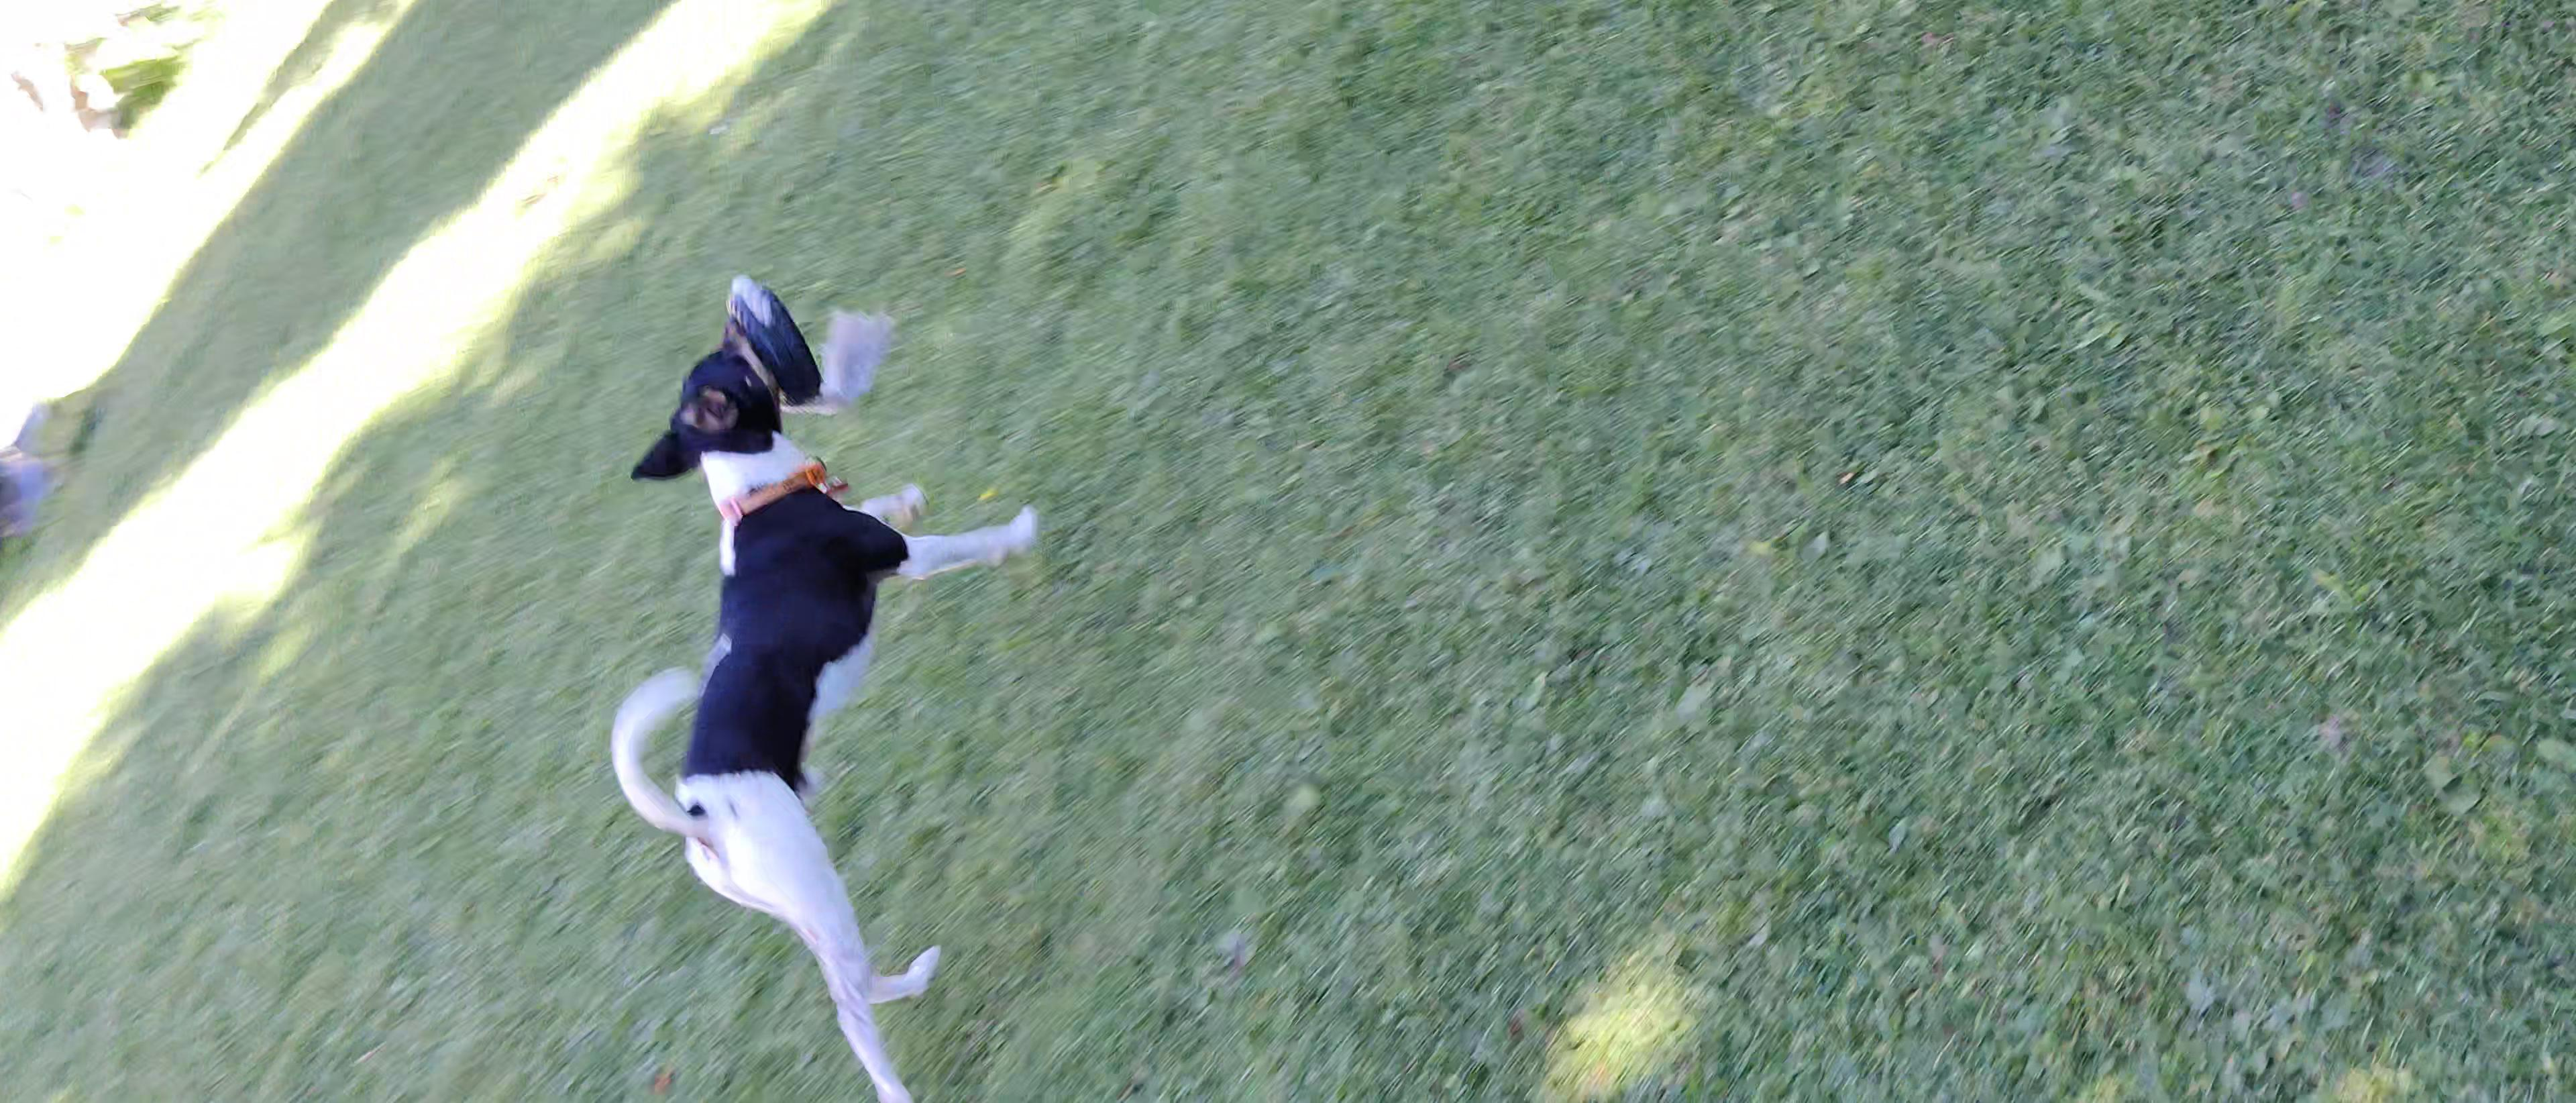Dog: (603, 307, 1043, 1103)
